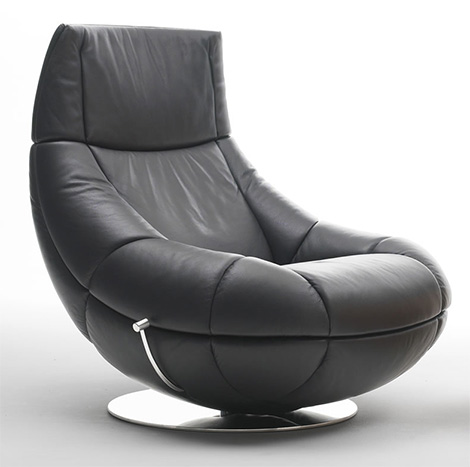chairs: (26, 21, 452, 433)
